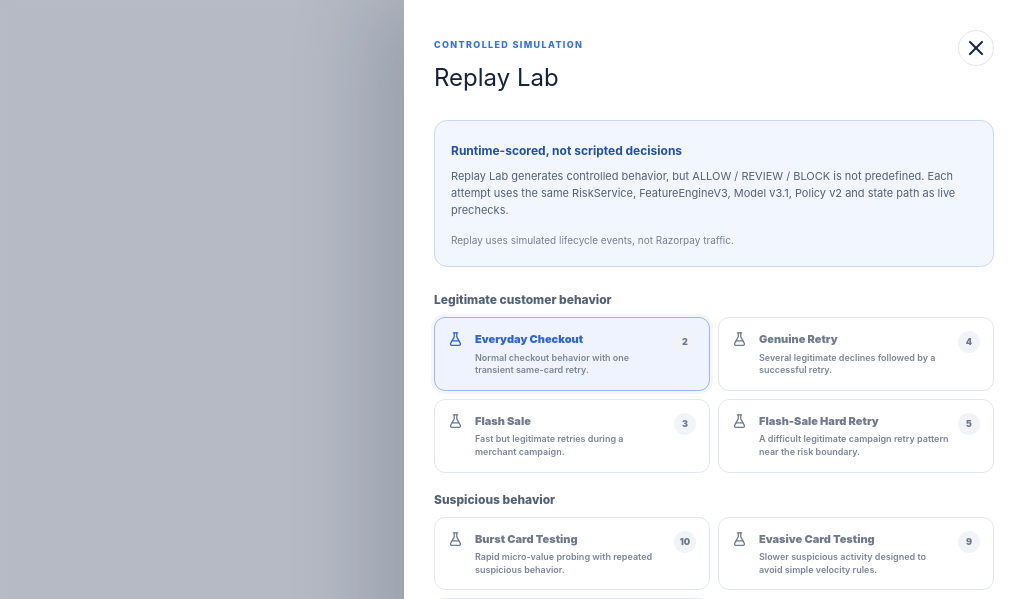
Test: ReplayDrawer › collapses the catalog after start, shows scenario-aware comparison, and restores it on reset
Click the button "Flash-Sale Hard Retry": (856, 436) [718,399,994,472]
(page scrolled)
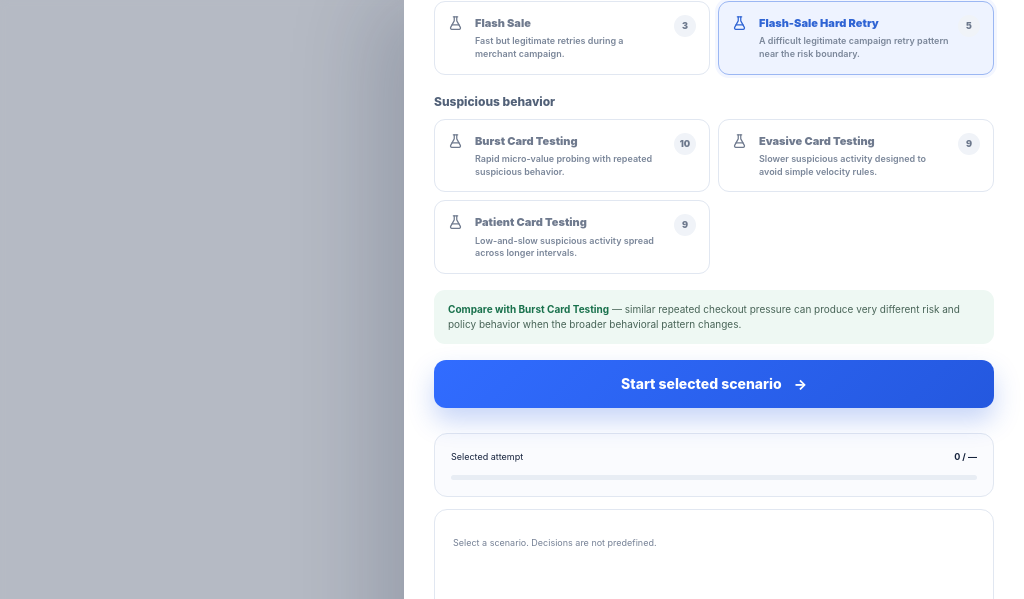
Now the text "Compare with Burst Card Testing" is shown, box [448,303,609,315]
Click the button "Start selected scenario →": (714, 384) [434,360,994,408]
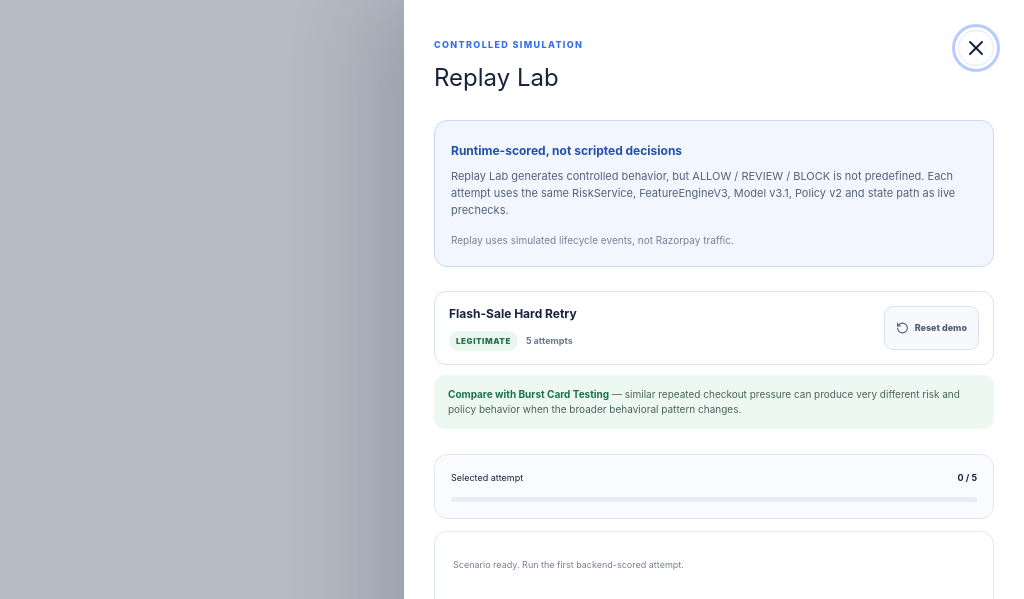
Now the element named "Active scenario" shows "Flash-Sale Hard Retry", box [449,306,577,321]
Now the element named "Active scenario" shows "LEGITIMATE", box [456,336,511,346]
Now the element named "Active scenario" shows "5 attempts", box [434,291,994,365]
Click the button "Reset demo": (931, 328) [884,306,979,350]
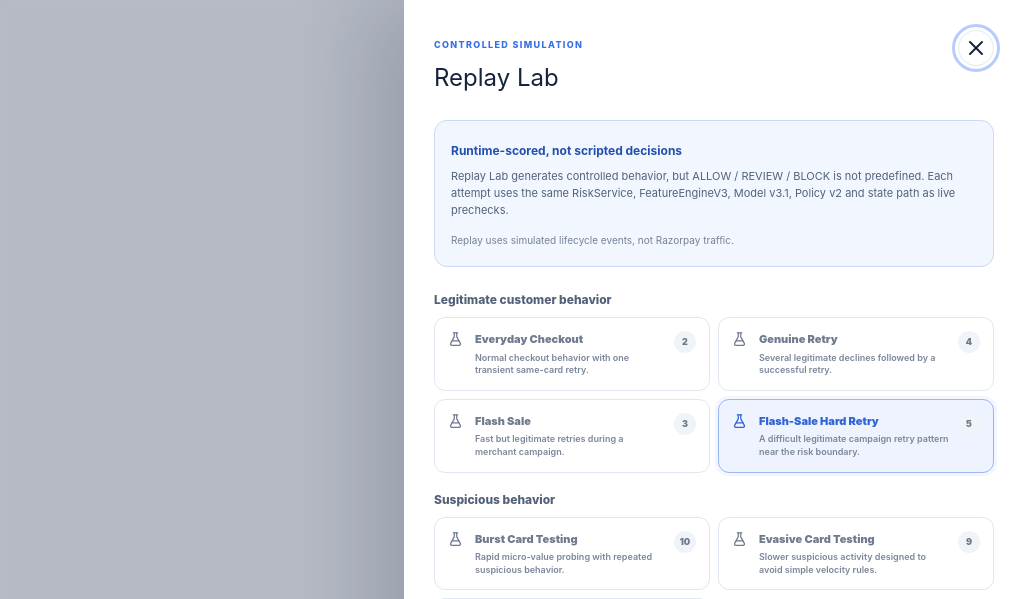
Now the button "Everyday Checkout" is shown, box [434,317,710,391]
Now the button "Burst Card Testing" is shown, box [434,516,710,590]
